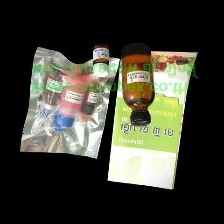book: (103, 48, 199, 194)
insecticide: (115, 36, 157, 129), (54, 71, 88, 129), (38, 67, 65, 112), (79, 79, 105, 117), (88, 40, 112, 79)
